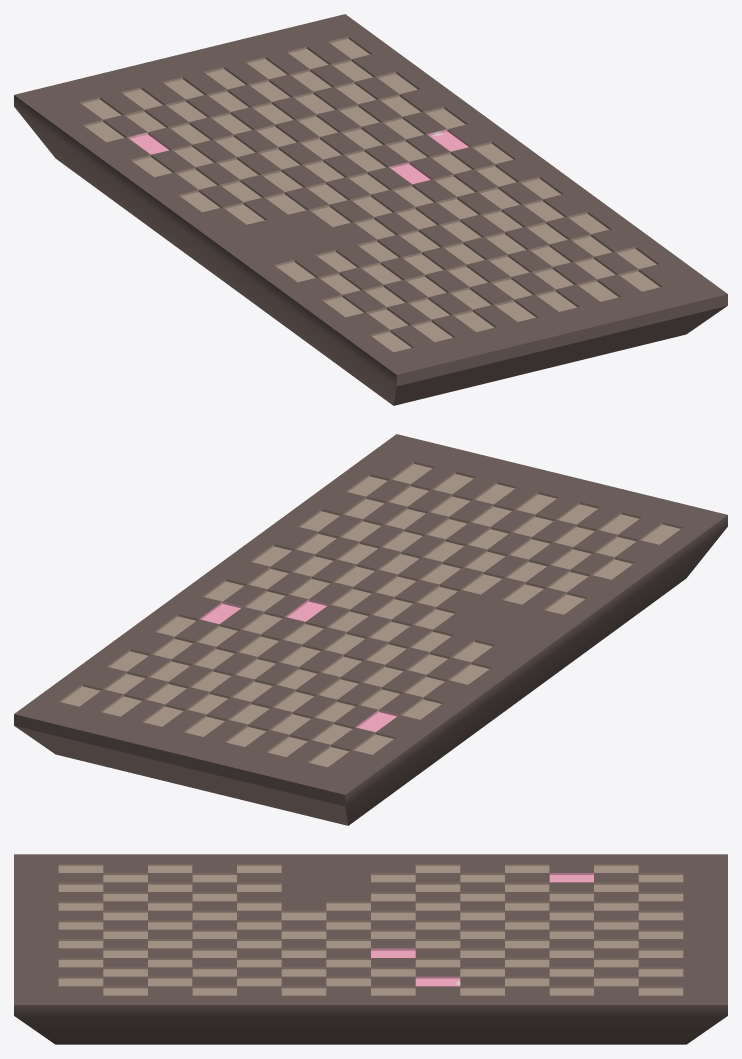
File: Platform.fbx
3 renders of one model, top to bottom at view 1: azimuth 30°, elevation 25°; view 2: azimuth 150°, elevation 25°; view 3: azimuth 270°, elevation 25°, orthographic. The views are drawn at different scales.
Parts seen in each view (by area): view 1: Start_Platform; view 2: Start_Platform; view 3: Start_Platform.
Boxes of the visible parts, bbox=[...] form: Start_Platform: bbox=[14, 14, 727, 405]; Start_Platform: bbox=[14, 434, 727, 825]; Start_Platform: bbox=[14, 854, 727, 1044].
Bounding box in the file's own units: 30 × 4.5 × 60.
